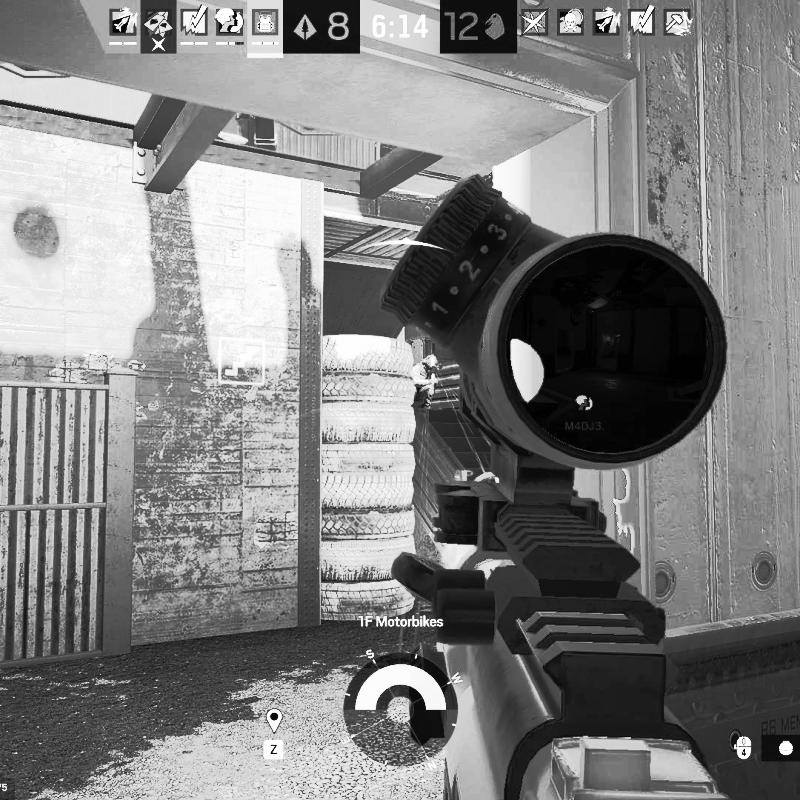Character: (411, 354, 442, 408)
Friend_label: (564, 393, 605, 432)
Head: (423, 354, 440, 371)
